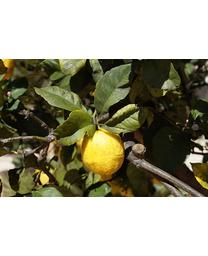lemon: (77, 126, 125, 179)
